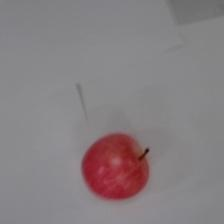red: (80, 130, 151, 201)
